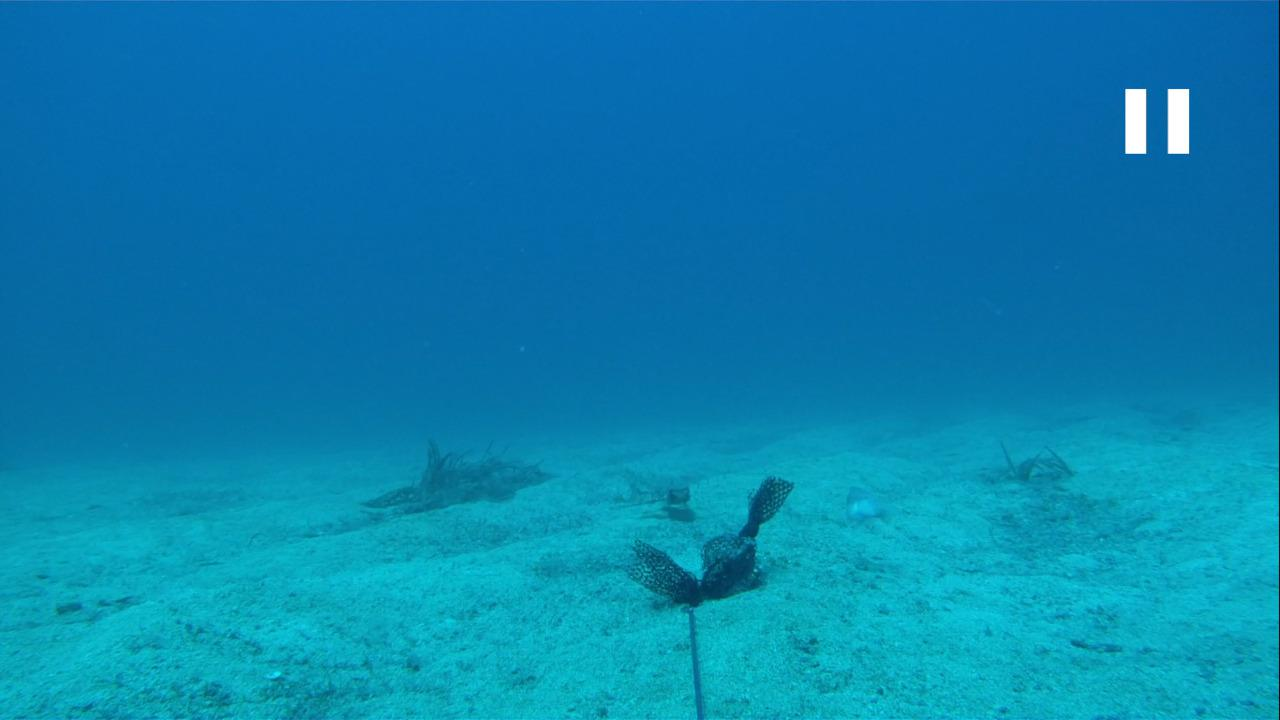dactylopterus: (586, 456, 697, 519)
raor: (828, 482, 897, 534)
